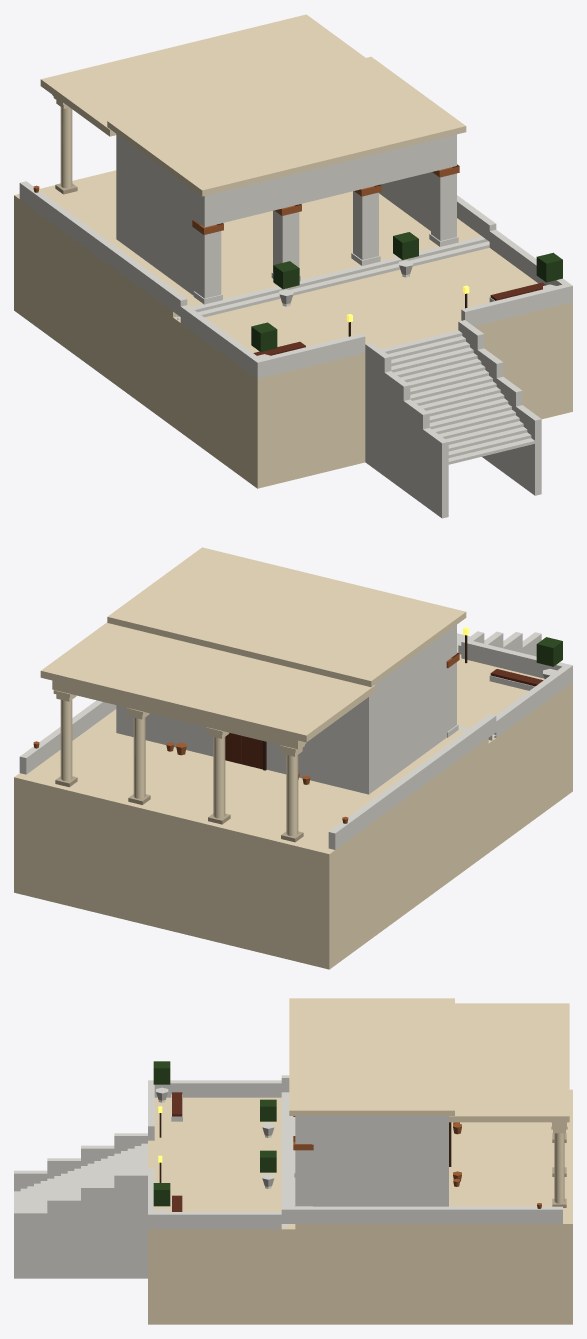
Rendered from generated.belvedere.gltf.
3 views of the same model, one above another, from view 1: azimuth 30°, elevation 25°; view 2: azimuth 150°, elevation 25°; view 3: azimuth 270°, elevation 25° (orthographic). The views are drawn at different scales.
Visible parts, largest first — view 1: belvedere; view 2: belvedere; view 3: belvedere.
Boxes of the visible parts, left/top/right/bottom form: belvedere: left=14, top=14, right=572, bottom=518; belvedere: left=14, top=547, right=572, bottom=969; belvedere: left=14, top=998, right=572, bottom=1324.
Bounding box in the file's own units: 19 × 13.39 × 33.4.
